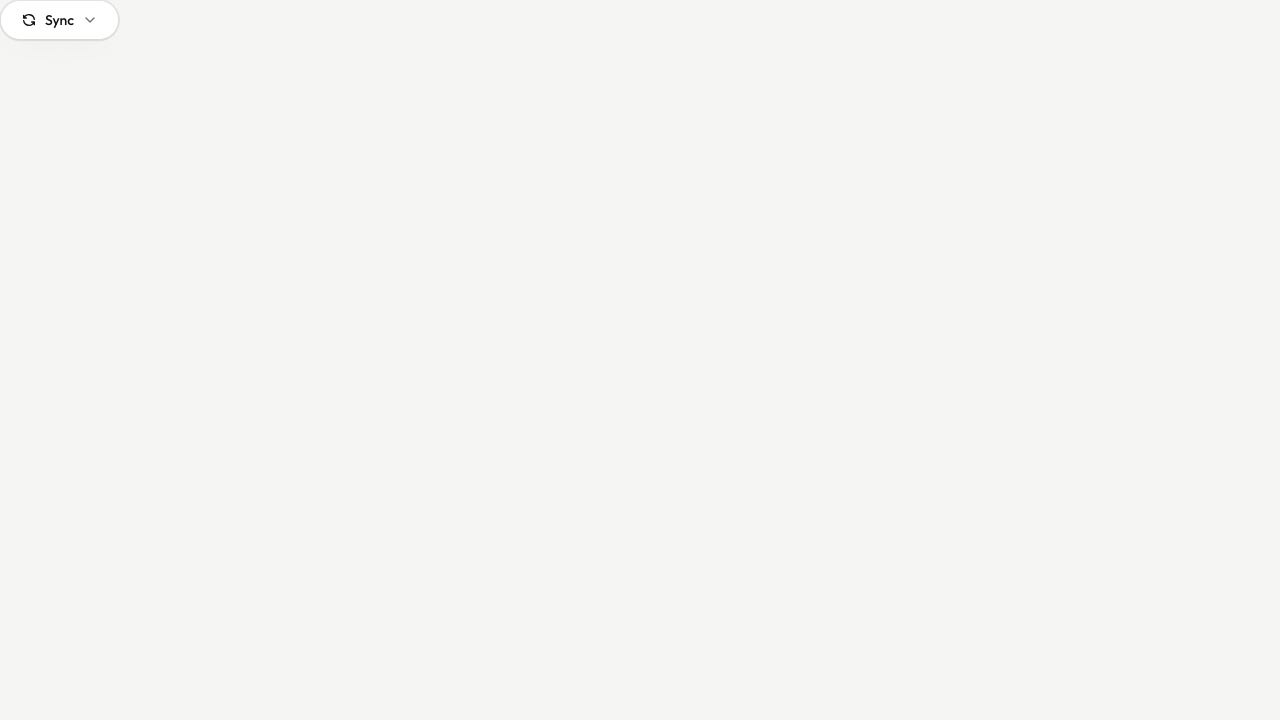
SyncIntegrations › leaves out an integration the athlete has not connected
The width and height of the screenshot is (1280, 720).
Click the button with test id "sync-integrations-button" at [59, 20], box [0,0,119,40]
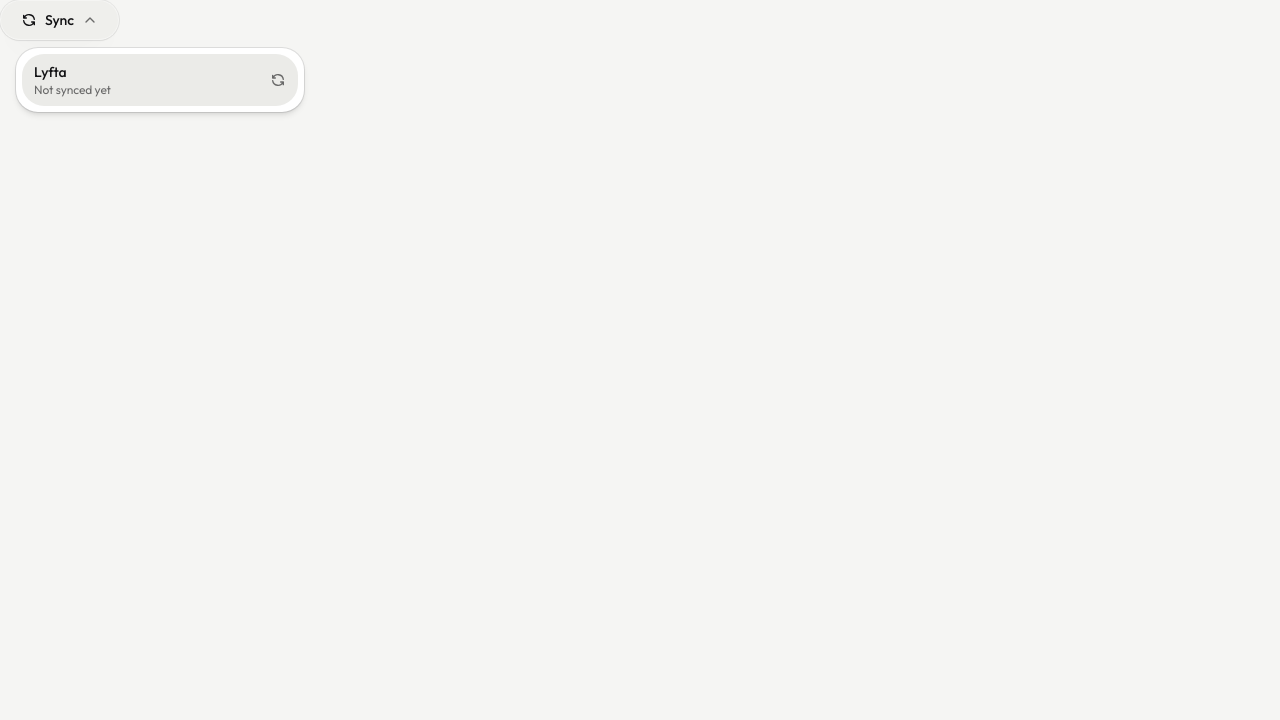
Expected: the button with test id "sync-source-lyfta" is shown, [22,54,298,106]
